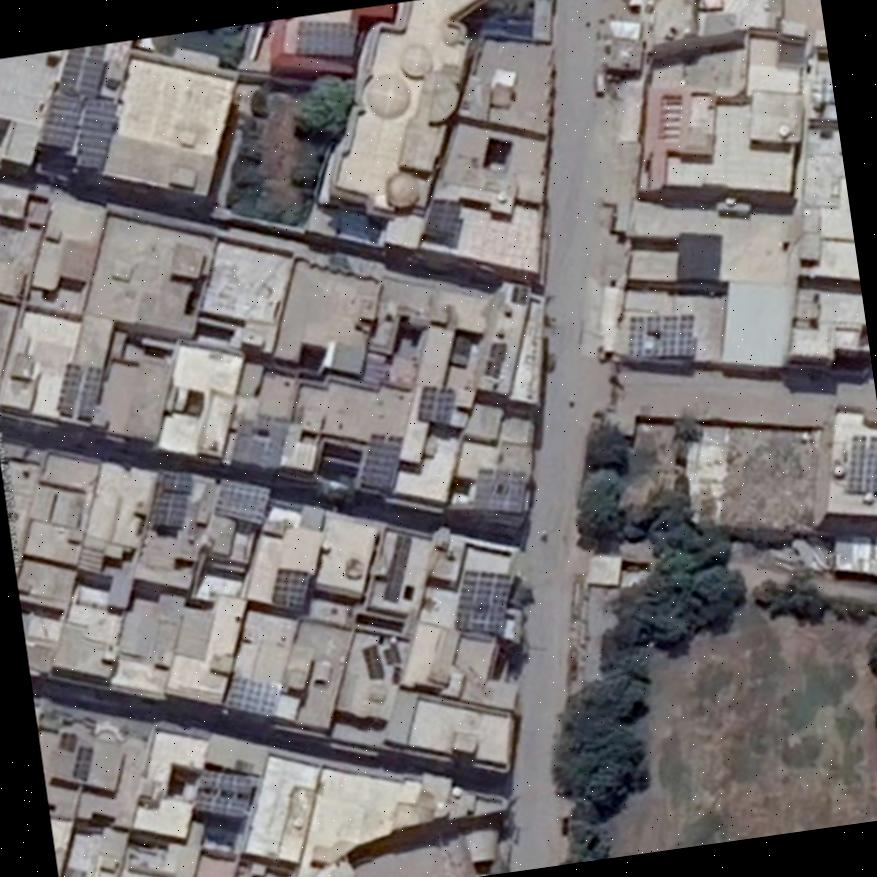Solarpanel: (457, 570, 509, 631), (194, 768, 251, 817), (74, 98, 113, 169), (627, 316, 692, 357), (38, 89, 81, 149), (213, 479, 269, 523), (151, 470, 193, 524), (226, 674, 281, 713), (362, 435, 398, 490), (845, 436, 877, 494), (298, 20, 348, 56), (386, 536, 413, 601), (54, 47, 85, 98), (420, 382, 456, 422), (58, 363, 82, 415), (81, 54, 106, 102), (274, 567, 306, 604), (425, 199, 457, 235), (79, 366, 98, 417), (364, 644, 386, 677), (73, 747, 89, 776)
